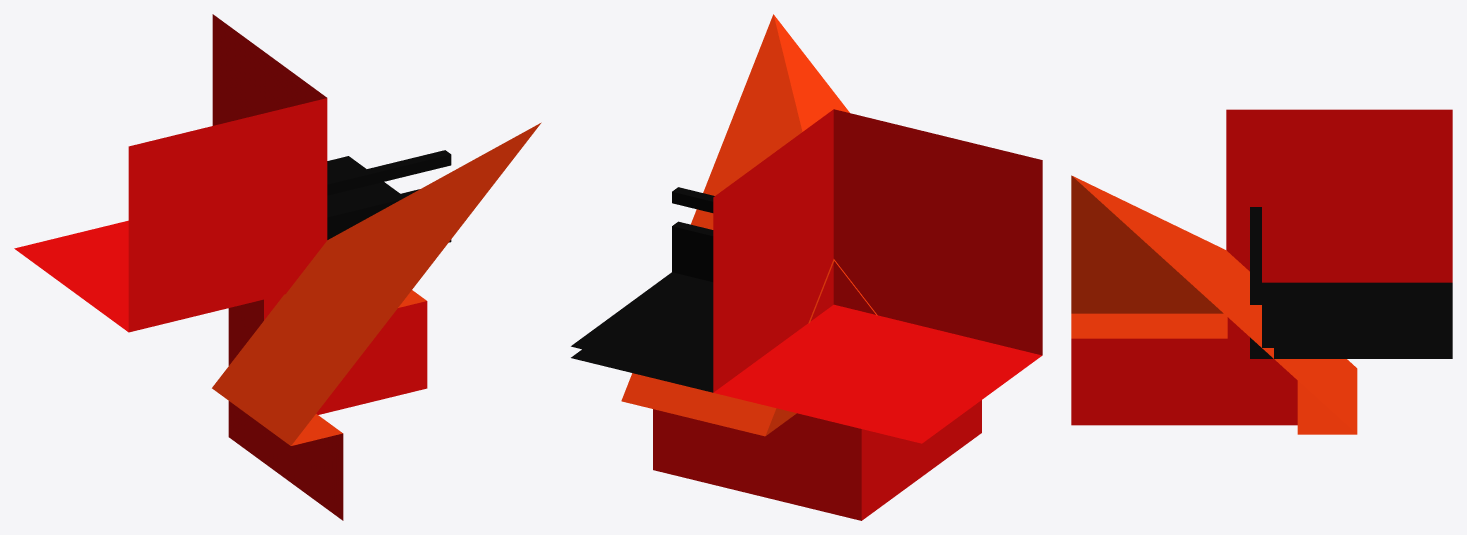
3 renders of one model, left to right at view 1: azimuth 30°, elevation 25°; view 2: azimuth 150°, elevation 25°; view 3: azimuth 270°, elevation 25°, orthographic. The views are drawn at different scales.
Parts seen in each view (by area): view 1: None_P_S_E_E_E_E_A_E_None; view 2: None_P_S_E_E_E_E_A_E_None; view 3: None_P_S_E_E_E_E_A_E_None.
Part boxes in pixels (x1,y1,x2,y2): None_P_S_E_E_E_E_A_E_None: (14, 14, 541, 520); None_P_S_E_E_E_E_A_E_None: (571, 14, 1042, 520); None_P_S_E_E_E_E_A_E_None: (1071, 109, 1452, 434).
Bounding box in the file's own units: 100 × 100 × 100.
